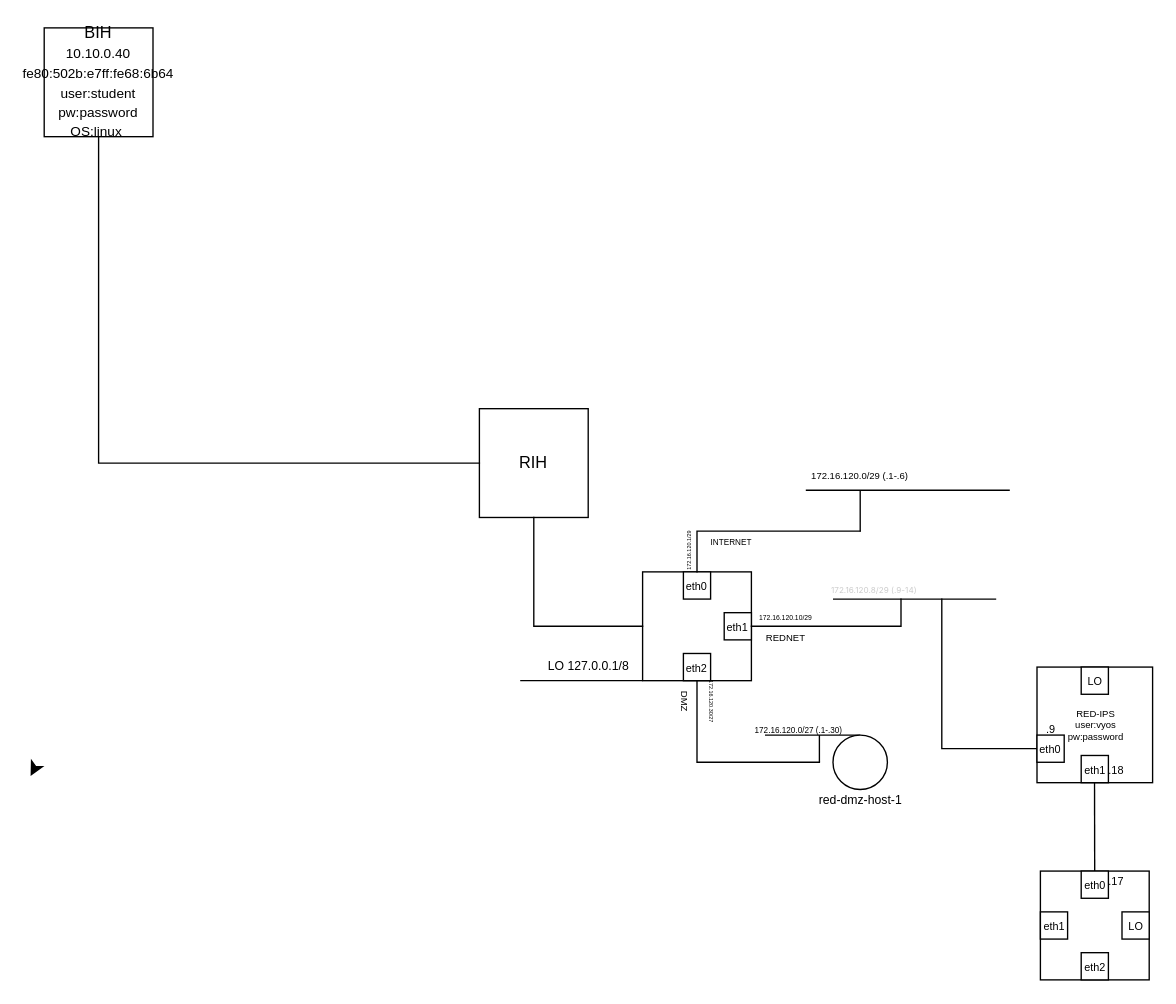
This 1176x1004 diagram has some shape labels left out. The box of each missing label's shape, as (x1, y1, x2, y2) in pixels:
.2 22/ssh: (832, 734, 887, 789)
RED-POP: (1039, 870, 1149, 980)
RED-SCR: (641, 571, 751, 681)
